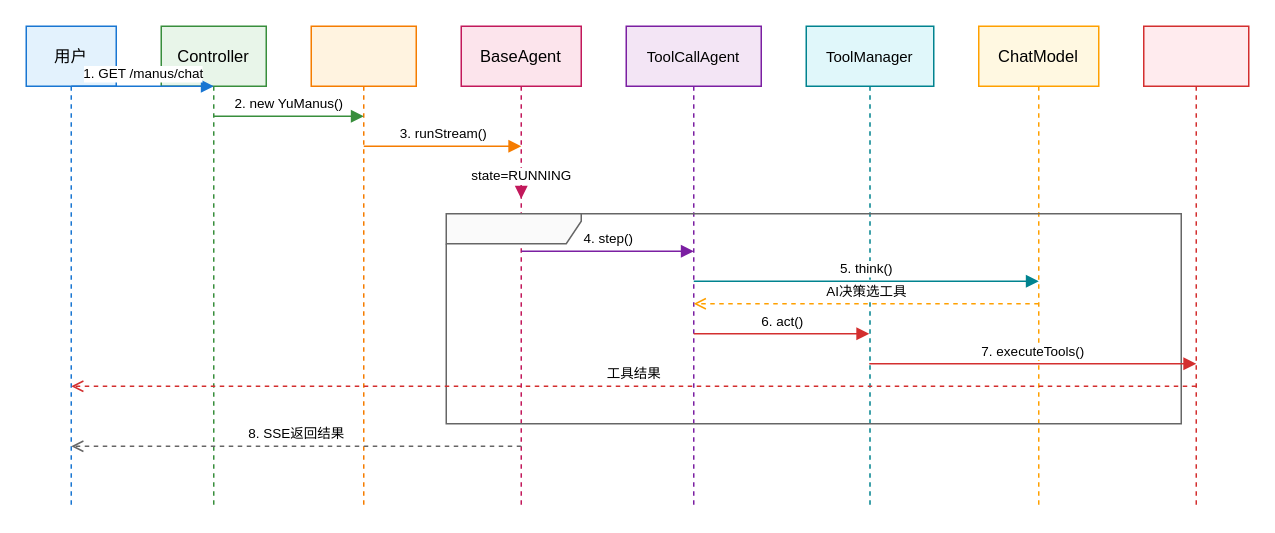
Image size: 1275x533. Some labels were removed from this diagram. Each missing label, with the box of its shape:
loop [maxSteps]: (445, 212, 1181, 424)
Tools: (1142, 25, 1249, 506)
YuManus: (310, 25, 416, 506)
